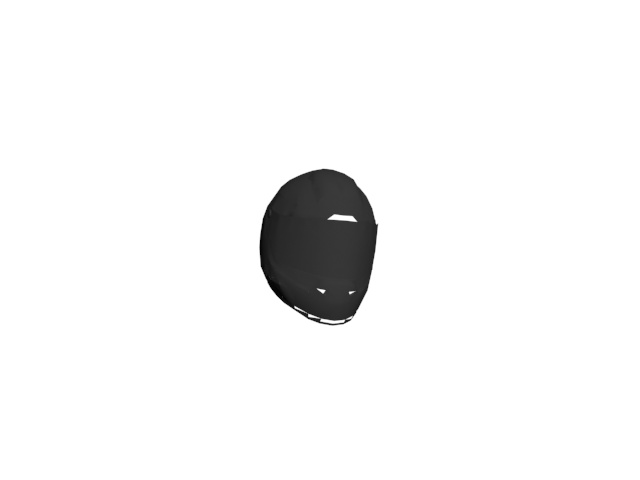bike_helmet: (257, 169, 384, 328)
